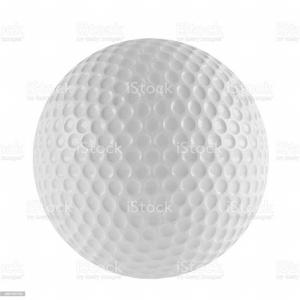Golf: (32, 38, 270, 278)
